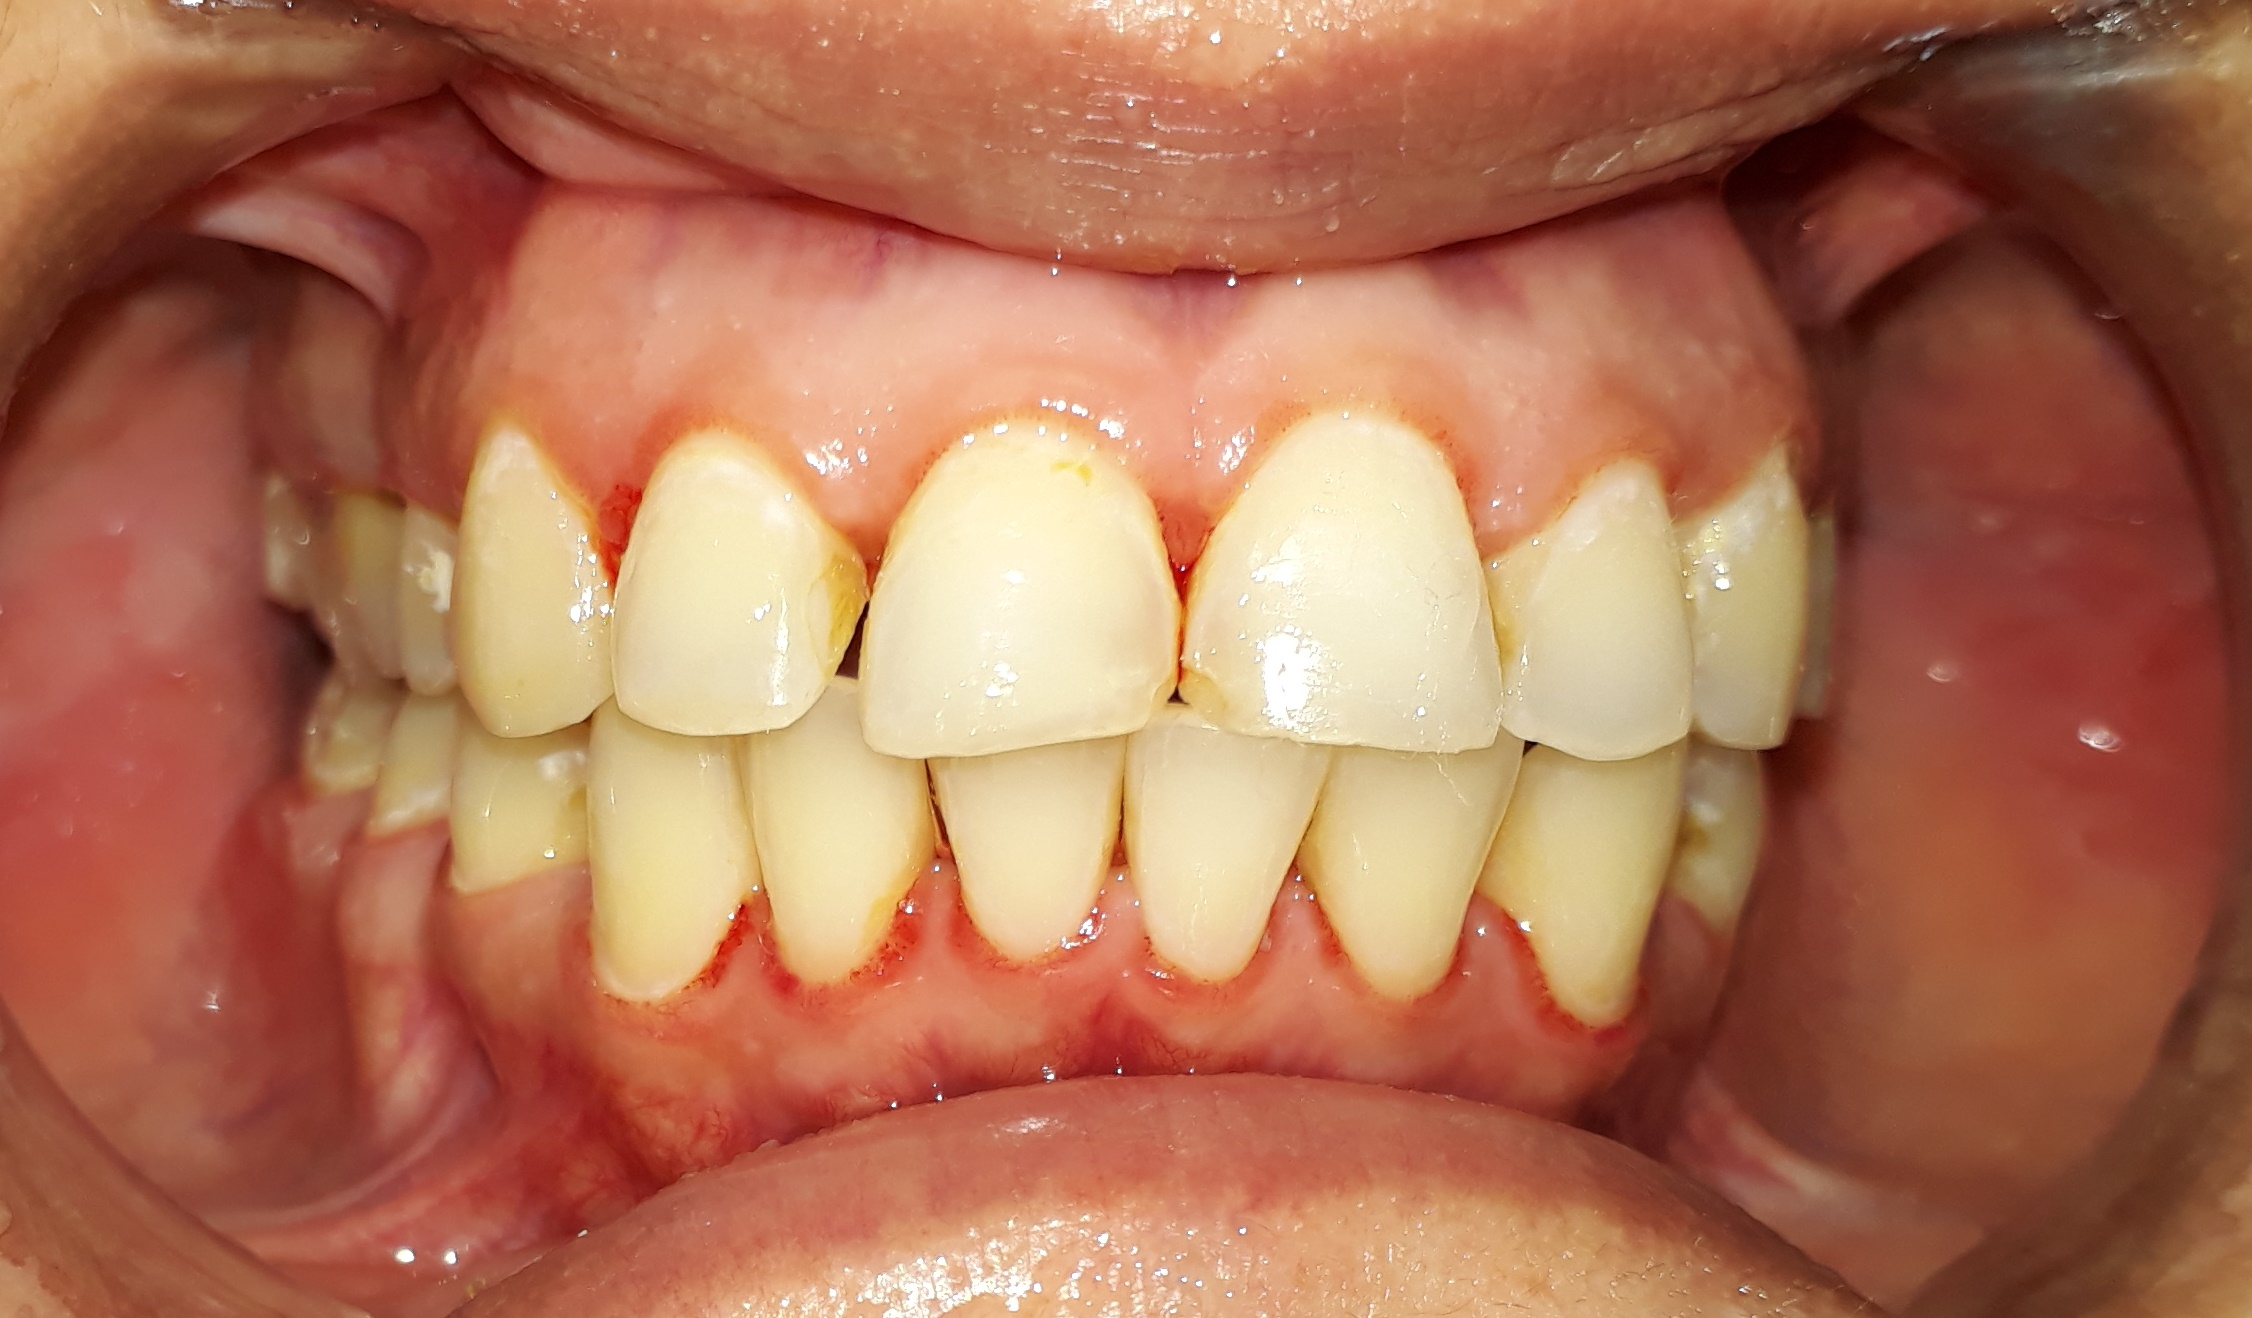1st Molar: (300, 681, 369, 792)
1st Premolar: (442, 739, 579, 907), (1686, 753, 1758, 930), (395, 493, 452, 686), (1800, 485, 1840, 701)
2nd Premolar: (362, 686, 449, 835), (329, 494, 390, 676)
Canine: (1509, 719, 1686, 1058), (453, 400, 601, 739), (579, 715, 739, 1026), (1698, 421, 1803, 750)
Central Incisor: (866, 373, 1184, 761), (1184, 369, 1502, 753), (1118, 692, 1333, 995), (925, 676, 1115, 992)
Lateral Incisor: (608, 389, 863, 734), (1491, 427, 1698, 761), (739, 673, 928, 1003), (1327, 715, 1509, 1018)
